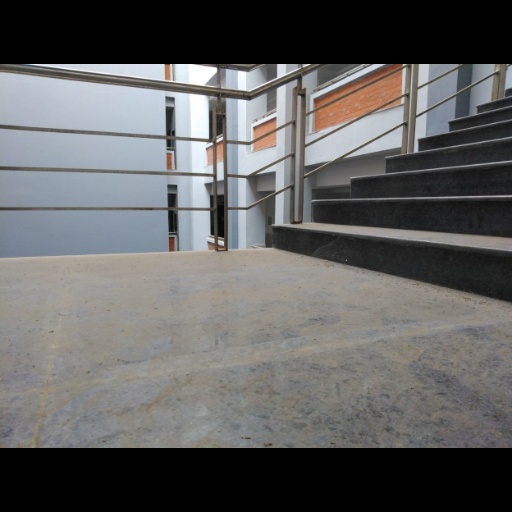Stairs: (273, 96, 512, 301)
